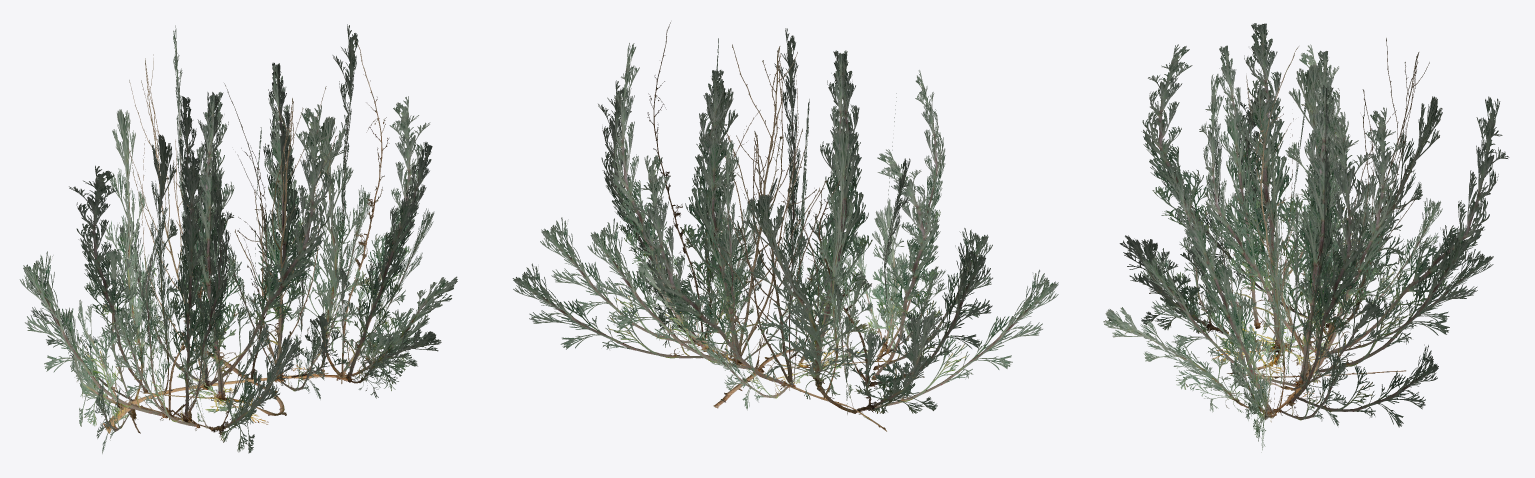
Rendered from sea_wormwood_01.fbx.
3 renders of one model, left to right at view 1: azimuth 30°, elevation 25°; view 2: azimuth 150°, elevation 25°; view 3: azimuth 270°, elevation 25°, orthographic.
Parts seen in each view (by area): view 1: sea_wormwood_01_LOD0; view 2: sea_wormwood_01_LOD0; view 3: sea_wormwood_01_LOD0.
Part boxes in pixels (x1,y1,x2,y2): sea_wormwood_01_LOD0: (19, 24, 457, 453); sea_wormwood_01_LOD0: (512, 22, 1058, 431); sea_wormwood_01_LOD0: (1103, 23, 1509, 452).
Size of what is drawn, in the model's own units: 104 by 85.94 by 85.09.
